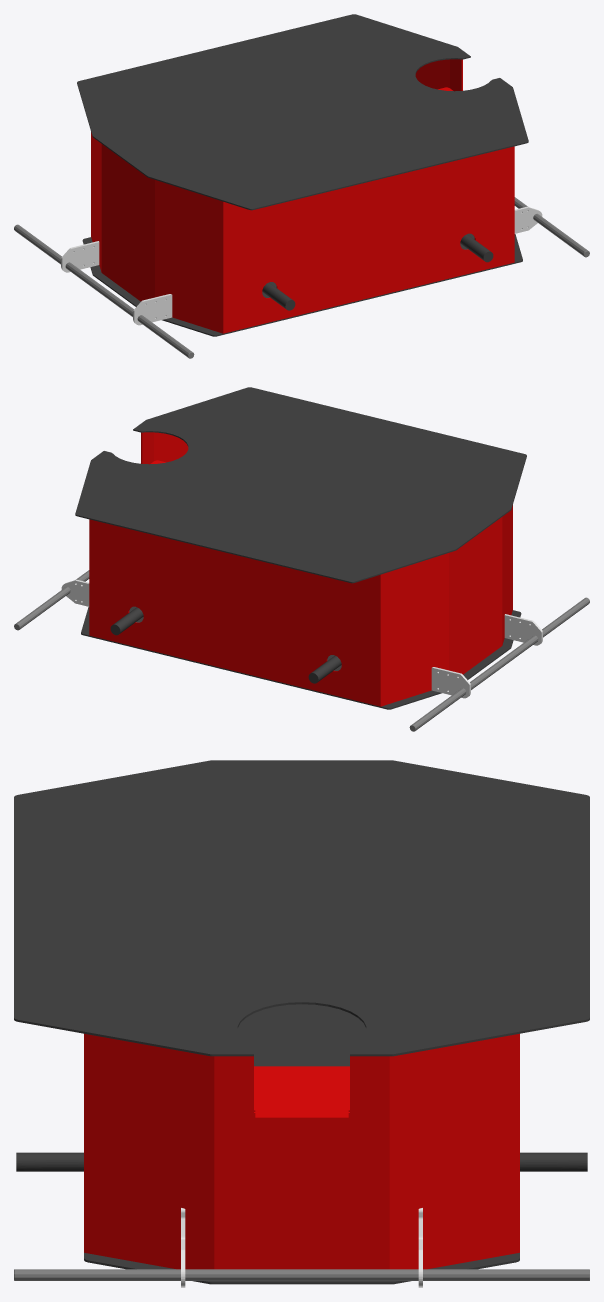
The model's file is Delta_XL_V8.dae.
3 views of the same model, one above another, from view 1: azimuth 30°, elevation 25°; view 2: azimuth 150°, elevation 25°; view 3: azimuth 270°, elevation 25° (orthographic). The views are drawn at different scales.
Parts seen in each view (by area): view 1: Top Plate, Cabinet V8, Bottom Plate, Bumper Rod.001, Back Bumper.001, Back Bumper, Bumper Rod, Front Bumper.001; view 2: Top Plate, Cabinet V8, Bottom Plate, Bumper Rod.001, Back Bumper, Back Bumper.001, Bumper Rod, Front Bumper; view 3: Top Plate, Cabinet V8, Bottom Plate, Bumper Rod, Axle.002, Axle.
Part boxes in pixels (x1,y1,x2,y2): Top Plate: (77,14,528,210); Cabinet V8: (91,59,514,333); Bottom Plate: (82,233,522,336); Bumper Rod.001: (14,224,194,358); Back Bumper.001: (133,294,172,325); Back Bumper: (61,241,99,272); Bumper Rod: (514,197,589,257); Front Bumper.001: (514,206,542,233); Top Plate: (75,387,526,583); Cabinet V8: (89,432,512,706); Bottom Plate: (81,606,521,709); Bumper Rod.001: (409,597,589,731); Back Bumper: (431,667,470,698); Back Bumper.001: (504,614,542,645); Bumper Rod: (14,570,89,630); Front Bumper: (61,579,89,606); Top Plate: (14,760,589,1056); Cabinet V8: (84,1033,519,1269); Bottom Plate: (84,1004,519,1284); Bumper Rod: (14,1269,589,1280); Axle.002: (16,1152,83,1171); Axle: (520,1152,587,1171).
Size of the model in its own units: 1.03 by 0.76 by 0.335.
